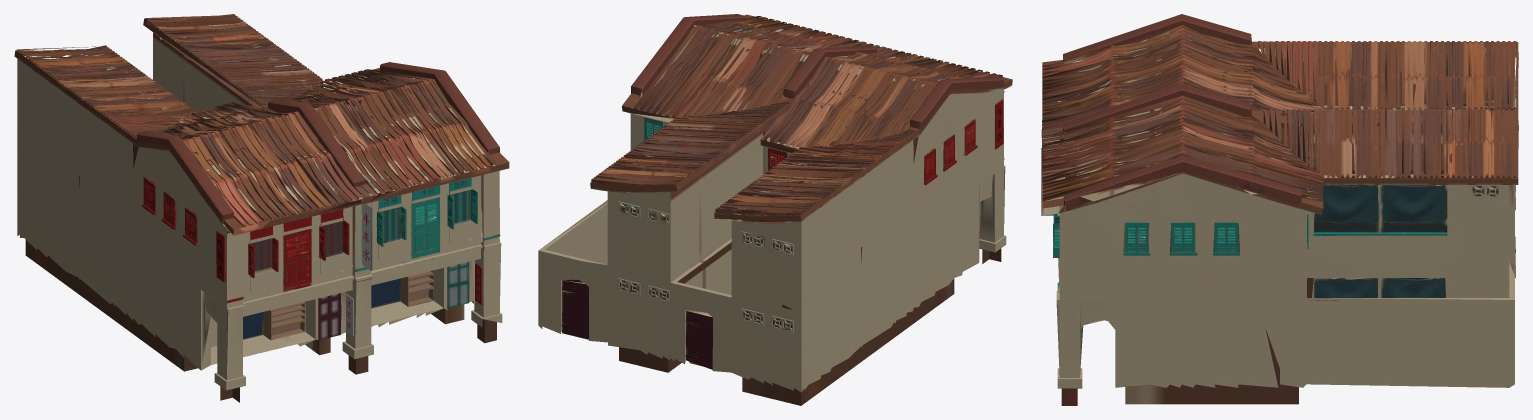
The model's file is chinatown.glb.
3 renders of one model, left to right at view 1: azimuth 30°, elevation 25°; view 2: azimuth 150°, elevation 25°; view 3: azimuth 270°, elevation 25°, orthographic. The views are drawn at different scales.
Parts seen in each view (by area): view 1: chinashop-1622-FACES (×2); view 2: chinashop-1622-FACES (×2); view 3: chinashop-1622-FACES (×2).
Boxes of the visible parts, x1=… form: chinashop-1622-FACES (×2): x1=14, y1=14, x2=509, y2=402; chinashop-1622-FACES (×2): x1=538, y1=14, x2=1012, y2=405; chinashop-1622-FACES (×2): x1=1041, y1=14, x2=1518, y2=405.
Size of the model in its own units: 36.86 by 28.96 by 50.48.
Materials: 1 (1 with a texture image).
